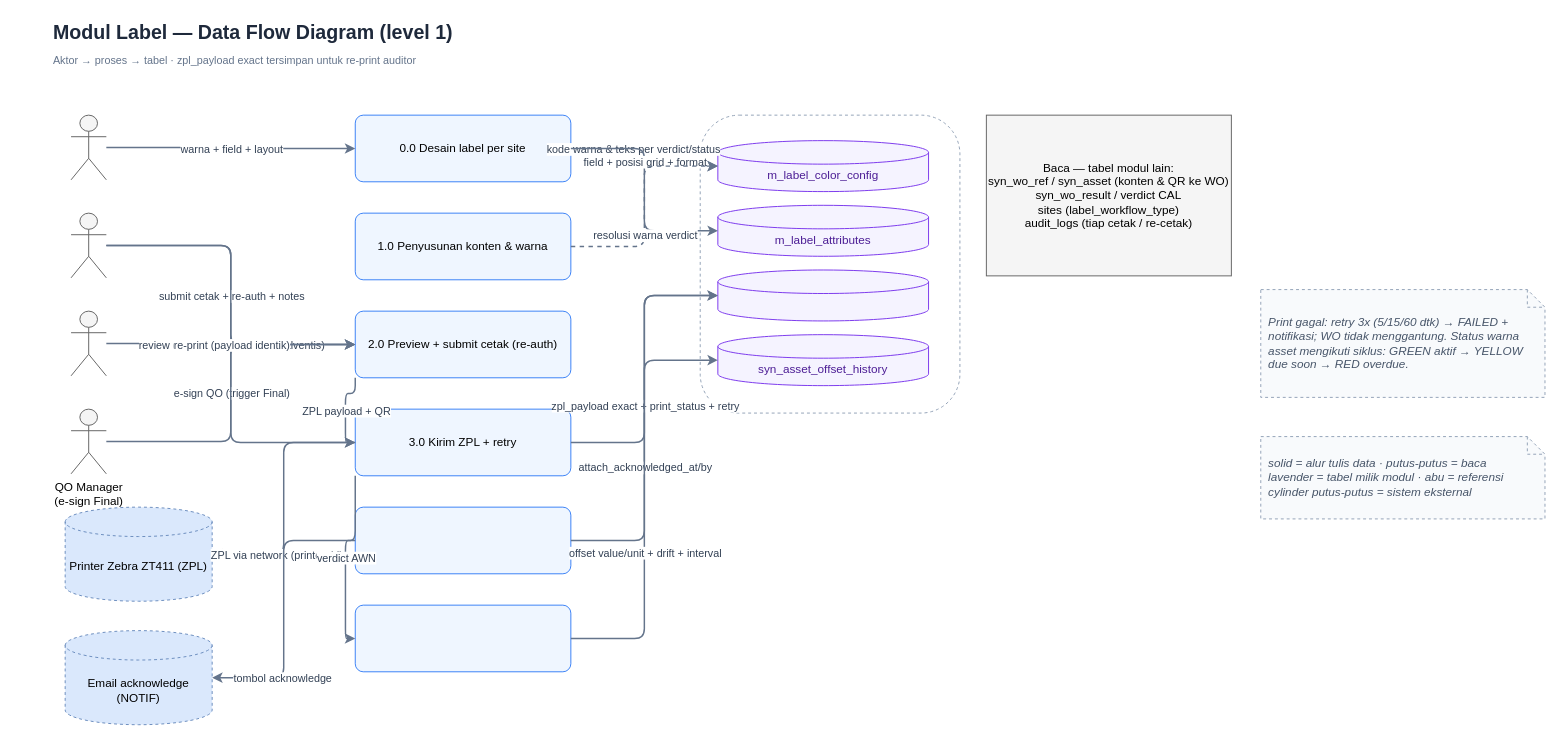
This 1562x742 diagram has some shape labels left out. Here are the shapes that lost their labels. From the top down, the box of each, then its label:
(70, 114, 106, 180): Metrology Lead / SysAdmin
(70, 212, 106, 278): Technician (cetak + notes)
(699, 114, 960, 413): Tabel modul ini (4) — Syntera_[site] / Master DB
(717, 269, 929, 321): syn_label
(70, 310, 106, 376): Supervisor (review Temporary)
(354, 506, 571, 574): 4.0 Email acknowledge
(354, 604, 571, 672): 5.0 Offset history (AWN)
